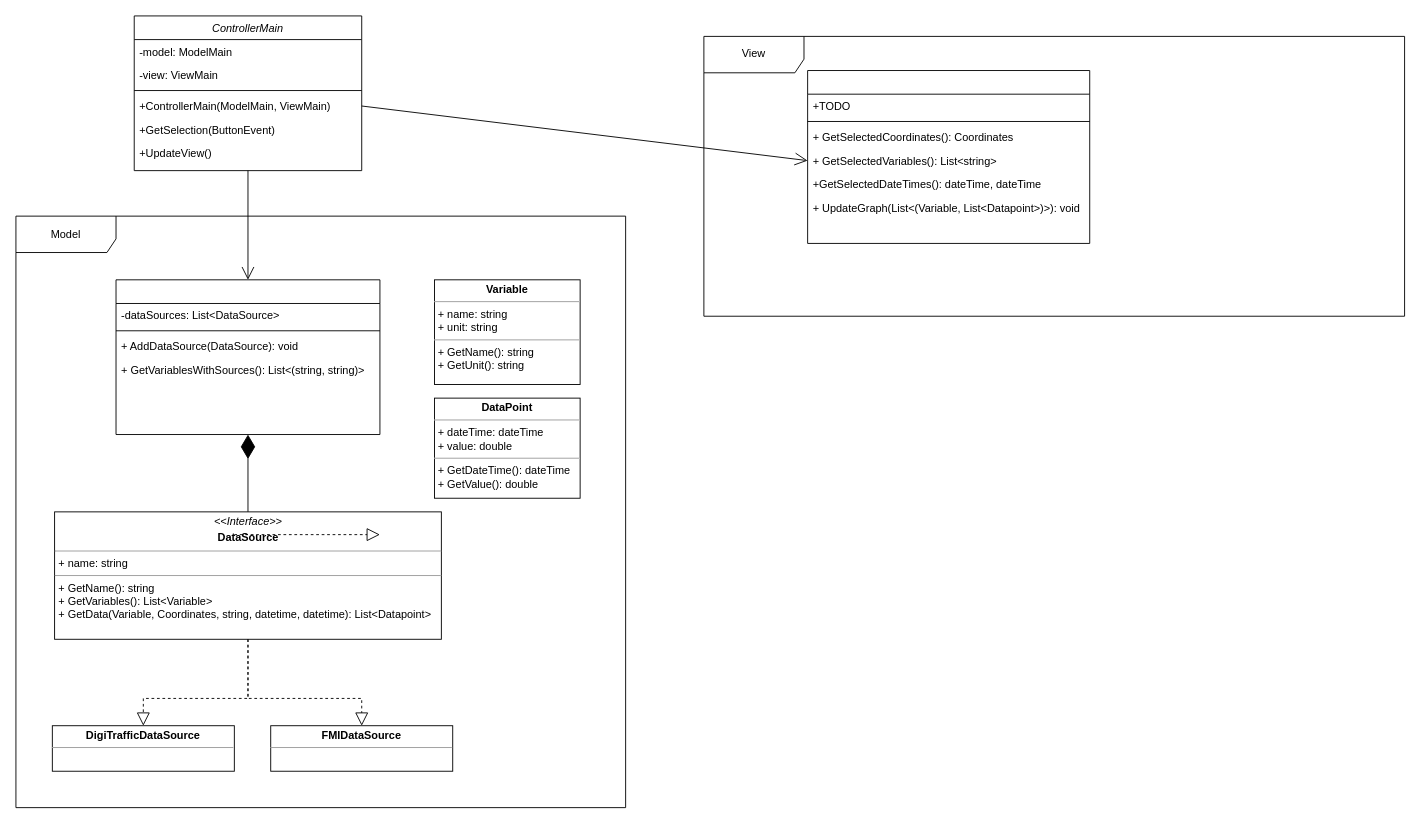
This 1421x824 diagram has some shape labels left out. Each missing label, with the box of its shape:
ModelMain: (115, 279, 380, 435)
ViewMain: (807, 70, 1090, 243)
